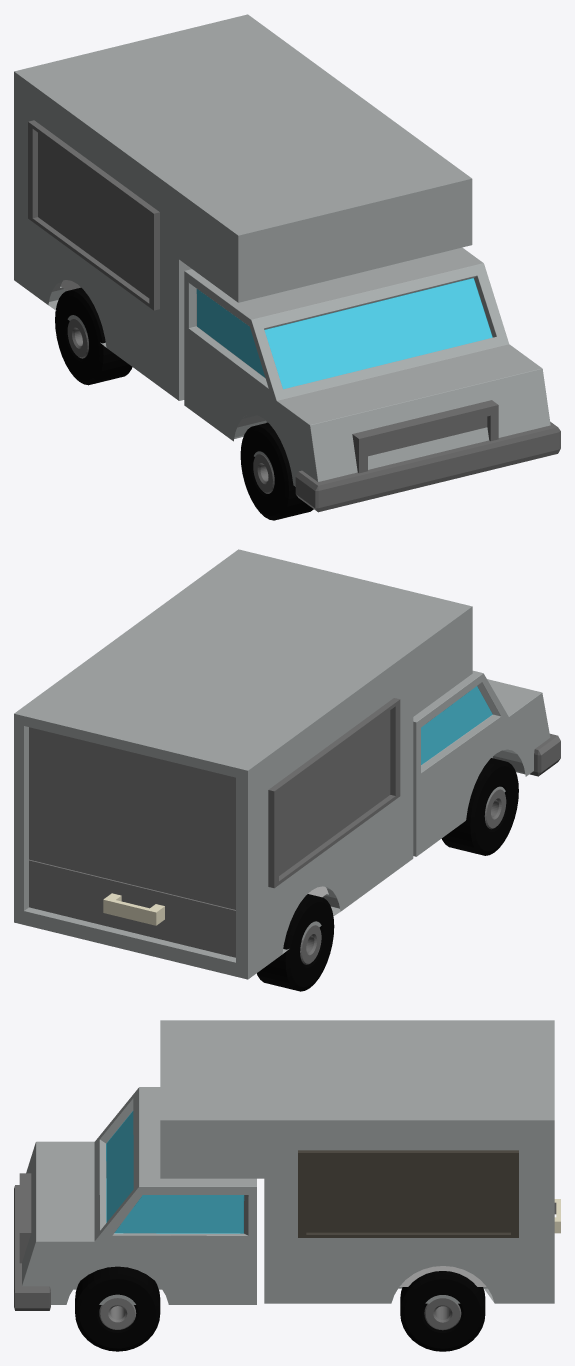
Rendered from Truck.fbx.
3 renders of one model, top to bottom at view 1: azimuth 30°, elevation 25°; view 2: azimuth 150°, elevation 25°; view 3: azimuth 270°, elevation 25°, orthographic. The views are drawn at different scales.
Visible parts, largest first — view 1: Cube, Cube.001, Cube.005, Cube.002, Cube.003, Cylinder.001, Cylinder.004, Cylinder.003, Cylinder.005; view 2: Cube, Door, Cube.001, Cube.005, Cylinder.004, Cylinder.001, Cube.002, Cylinder.003, Cylinder.005; view 3: Cube, Cube.001, Cube.004, Cylinder, Cylinder.007, Cube.002, Cube.003, Cylinder.006, Cylinder.002, Cube.007.
Boxes of the visible parts, bbox=[...] form: Cube: bbox=[14, 14, 472, 400]; Cube.001: bbox=[184, 247, 550, 486]; Cube.005: bbox=[28, 120, 159, 310]; Cube.002: bbox=[295, 422, 560, 512]; Cube.003: bbox=[352, 400, 498, 473]; Cylinder.001: bbox=[55, 287, 132, 385]; Cylinder.004: bbox=[240, 422, 313, 520]; Cylinder.003: bbox=[253, 453, 274, 493]; Cylinder.005: bbox=[67, 319, 88, 358]; Cube: bbox=[14, 549, 472, 979]; Door: bbox=[29, 727, 235, 957]; Cube.001: bbox=[413, 670, 550, 856]; Cube.005: bbox=[268, 698, 400, 888]; Cylinder.004: bbox=[441, 758, 518, 855]; Cylinder.001: bbox=[257, 894, 334, 991]; Cube.002: bbox=[529, 733, 560, 776]; Cylinder.003: bbox=[484, 789, 506, 829]; Cylinder.005: bbox=[300, 925, 321, 964]; Cube: bbox=[160, 1020, 554, 1303]; Cube.001: bbox=[22, 1087, 256, 1304]; Cube.004: bbox=[298, 1150, 518, 1237]; Cylinder: bbox=[75, 1266, 160, 1351]; Cylinder.007: bbox=[400, 1271, 485, 1351]; Cube.002: bbox=[14, 1185, 50, 1310]; Cube.003: bbox=[19, 1173, 31, 1263]; Cylinder.006: bbox=[424, 1298, 461, 1330]; Cylinder.002: bbox=[99, 1298, 136, 1329]; Cube.007: bbox=[399, 1266, 486, 1286].
Size of the model in its own units: 724 by 742 by 1586.
